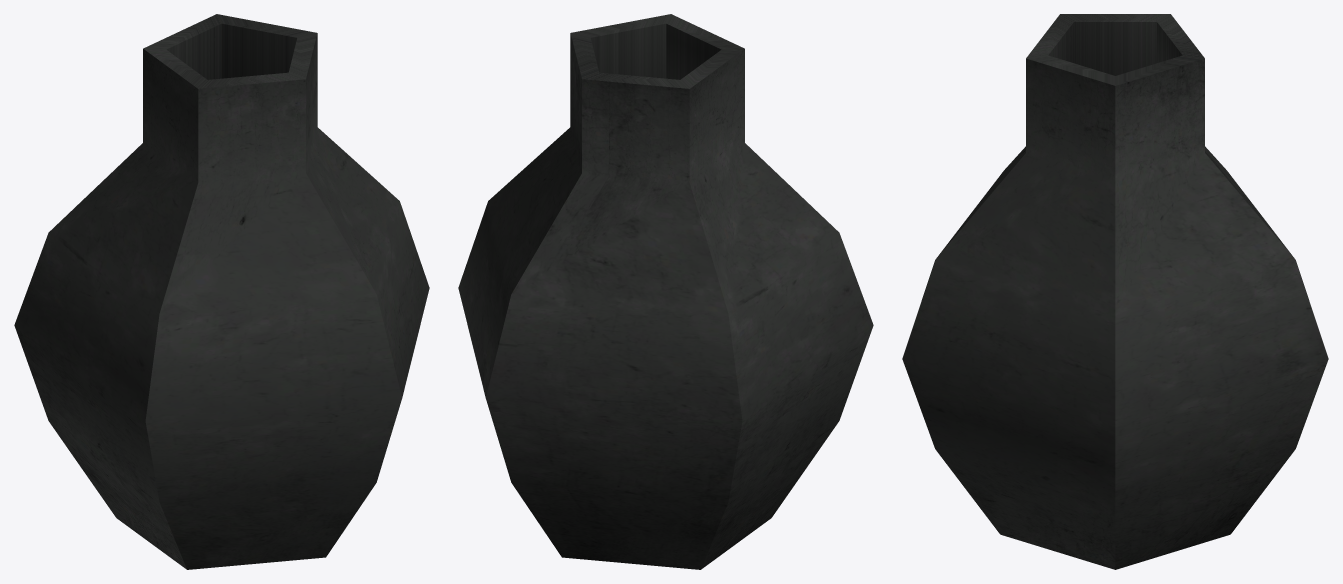
Rendered from small_vase.fbx.
The picture shows the model from 3 angles, left to right: view 1: azimuth 30°, elevation 25°; view 2: azimuth 150°, elevation 25°; view 3: azimuth 270°, elevation 25°; orthographic projection.
Parts seen in each view (by area): view 1: small_vase.001; view 2: small_vase.001; view 3: small_vase.001.
Boxes of the visible parts, box(x1,y1,x2,y2) form: small_vase.001: box(14, 14, 429, 569); small_vase.001: box(458, 14, 873, 569); small_vase.001: box(902, 14, 1328, 569).
Size of the model in its own units: 0.4741 by 0.6097 by 0.4985.
1 material, 1 textured.
